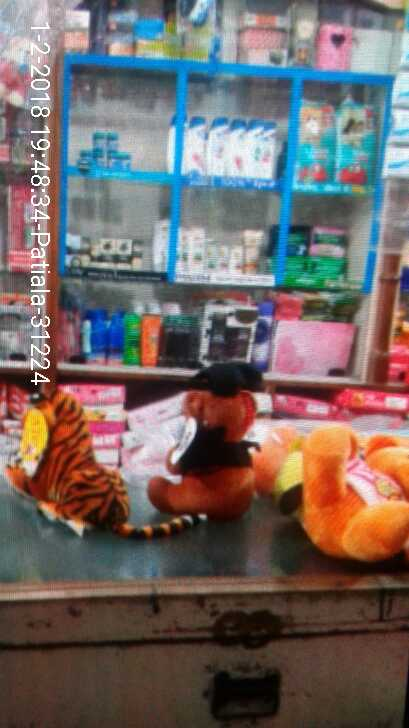vicks: (80, 130, 140, 173)
